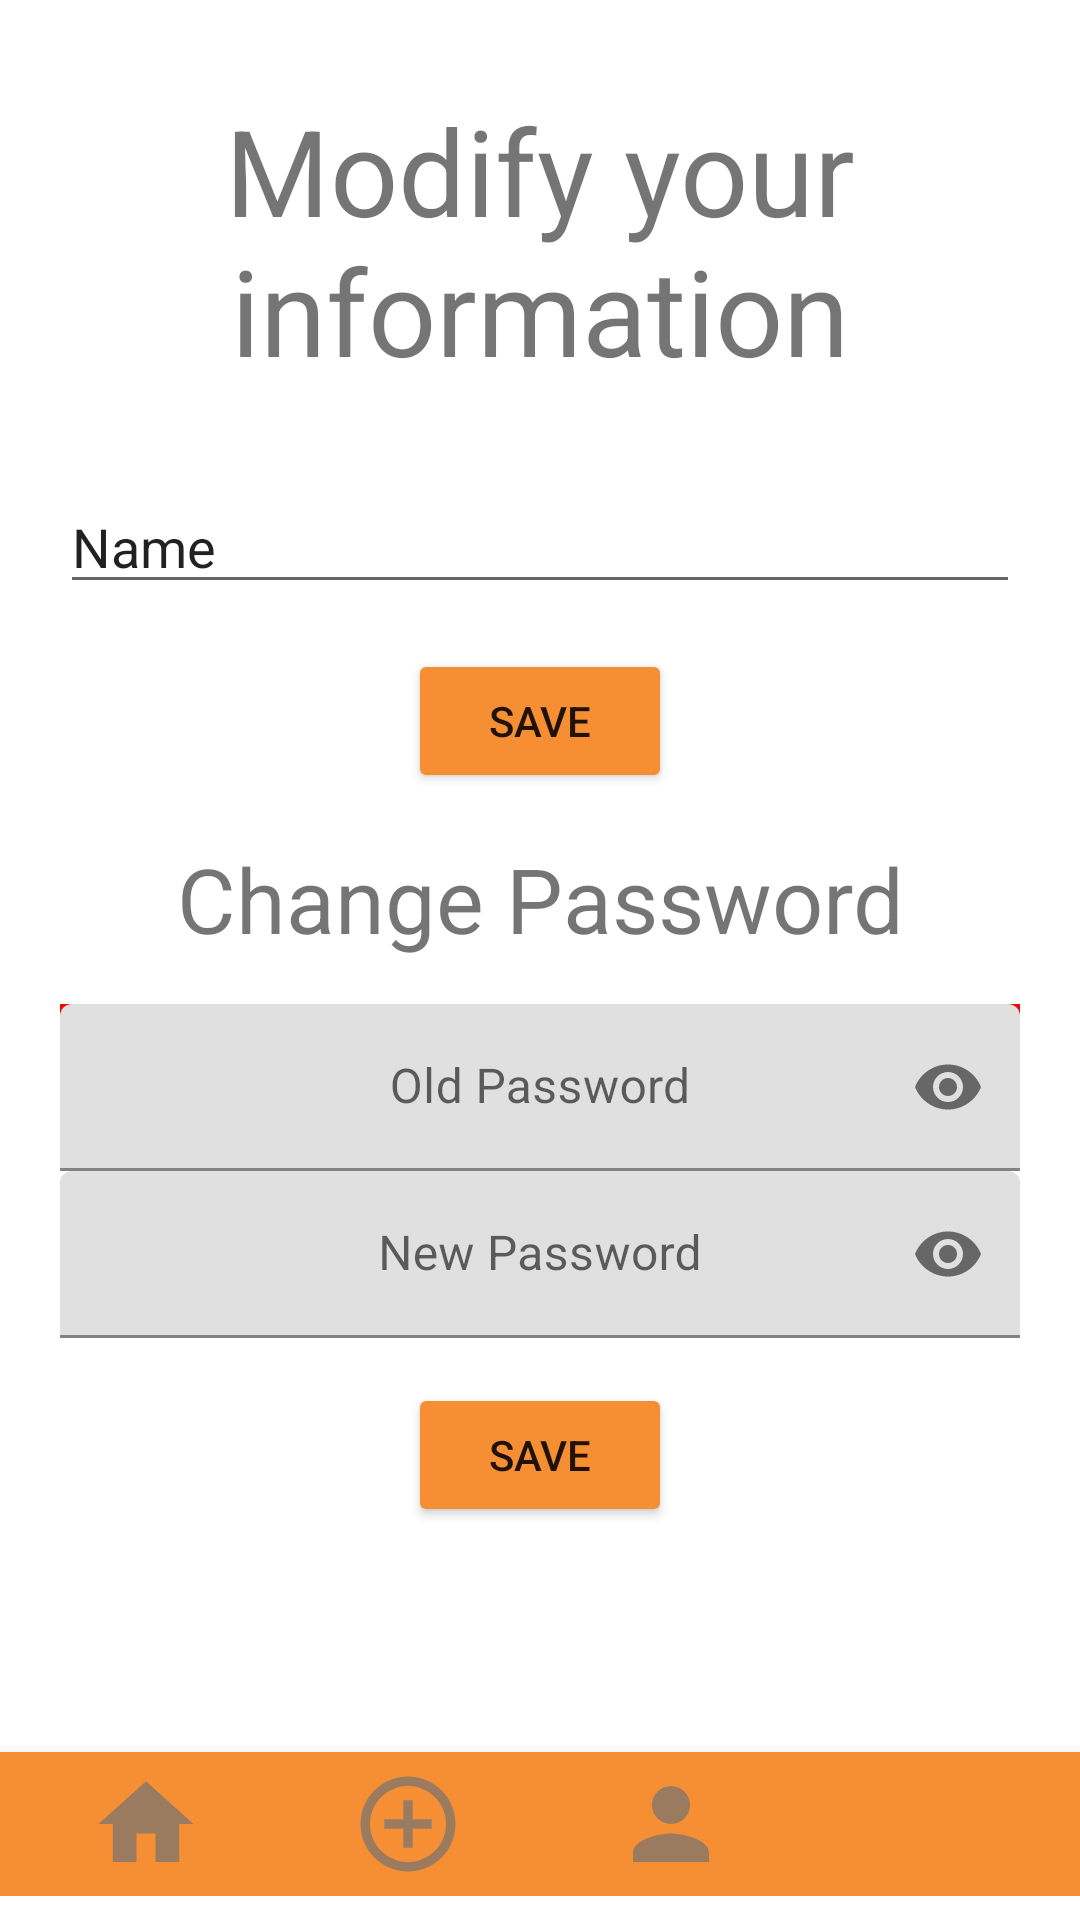

Icons on this 1080 × 1920 Android screen, each with the point to tap as (x,y):
add: (408,1824)
home: (146,1821)
profile: (671,1824)
